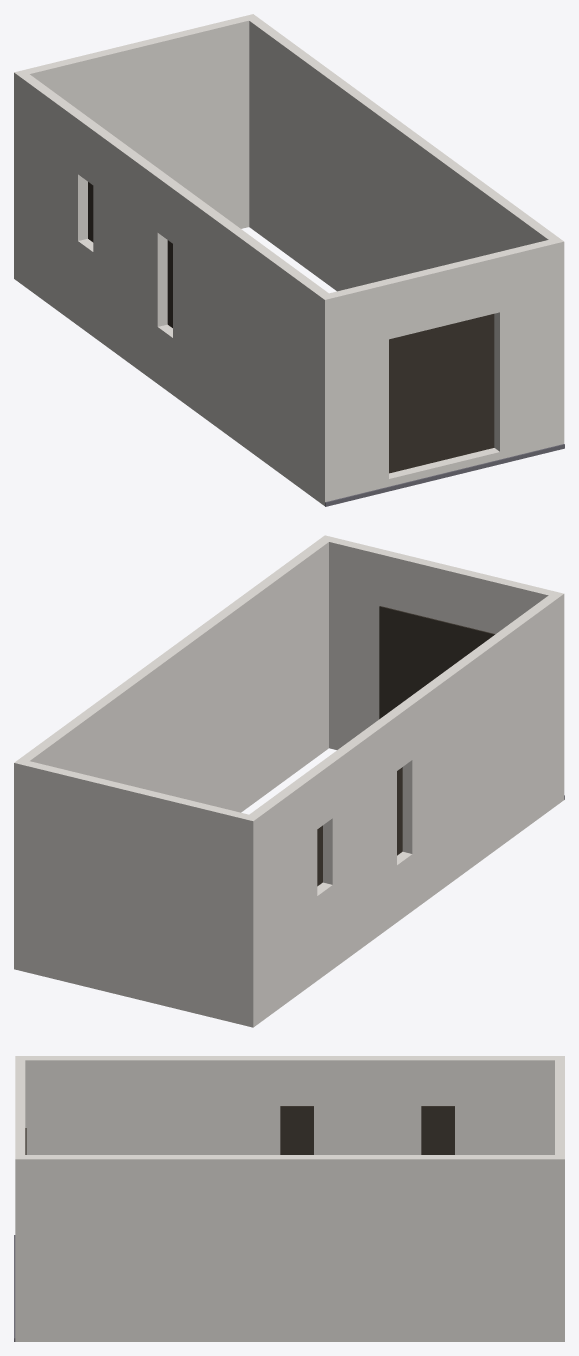
Rendered from SM_Floor_NarrowUpperBalconyEndL_White_364_01.gltf.
3 renders of one model, top to bottom at view 1: azimuth 30°, elevation 25°; view 2: azimuth 150°, elevation 25°; view 3: azimuth 270°, elevation 25°, orthographic. The views are drawn at different scales.
Parts seen in each view (by area): view 1: SM_Floor_NarrowUpperBalconyEndL_White_364_01; view 2: SM_Floor_NarrowUpperBalconyEndL_White_364_01; view 3: SM_Floor_NarrowUpperBalconyEndL_White_364_01.
Part boxes in pixels (<box>): SM_Floor_NarrowUpperBalconyEndL_White_364_01: <box>14,14,564,506</box>; SM_Floor_NarrowUpperBalconyEndL_White_364_01: <box>14,535,564,1027</box>; SM_Floor_NarrowUpperBalconyEndL_White_364_01: <box>14,1056,564,1341</box>.
Size of the model in its own units: 3.64 by 3 by 8.21.
1 material, 1 textured.
